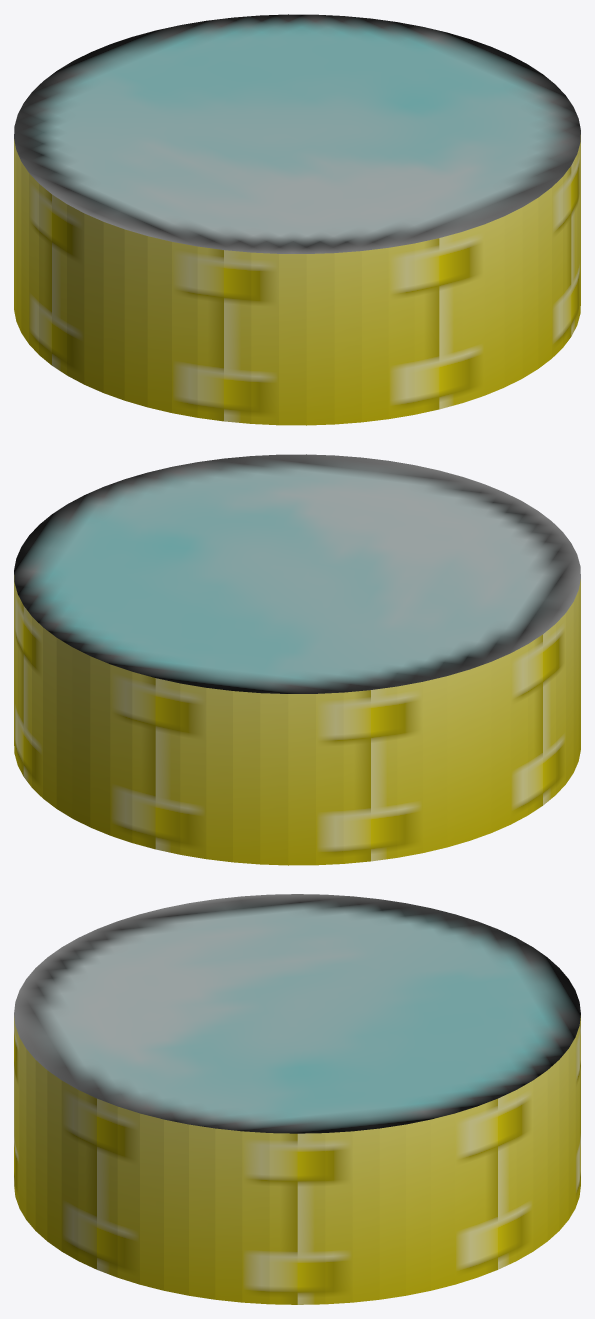
File: crossd.obj
3 views of the same model, one above another, from view 1: azimuth 30°, elevation 25°; view 2: azimuth 150°, elevation 25°; view 3: azimuth 270°, elevation 25° (orthographic).
Visible parts, largest first — view 1: ColobotMesh_1_Cylinder.001; view 2: ColobotMesh_1_Cylinder.001; view 3: ColobotMesh_1_Cylinder.001.
Part boxes in pixels (box(x1,y1,x2,y2)): ColobotMesh_1_Cylinder.001: box(14, 14, 580, 425); ColobotMesh_1_Cylinder.001: box(14, 454, 580, 865); ColobotMesh_1_Cylinder.001: box(14, 894, 580, 1304).
Size of the model in its own units: 3 by 1 by 3.
